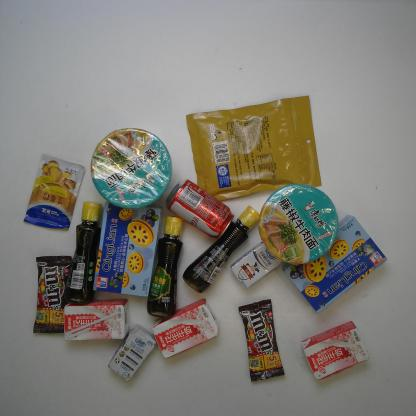Chocolate: (238, 298, 284, 382), (32, 256, 72, 334)
Dessert: (280, 213, 387, 313), (94, 200, 162, 297)
Dried Fruit: (186, 95, 322, 211)
Drink: (167, 180, 235, 237)
Instant Noodles: (91, 128, 172, 209), (258, 184, 338, 263)
Milk: (153, 300, 219, 360), (300, 321, 367, 379), (231, 236, 288, 288), (64, 299, 130, 341), (108, 324, 157, 380)
Seasoner: (183, 206, 260, 292), (24, 153, 86, 231), (146, 217, 183, 318), (67, 202, 102, 302)
